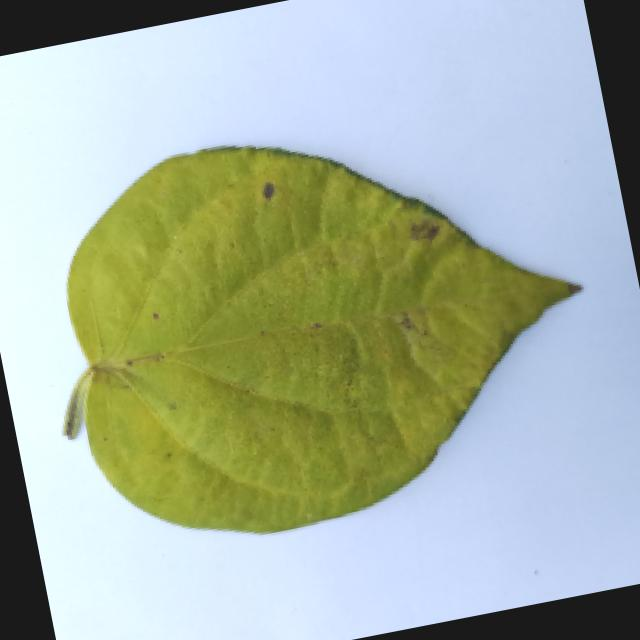slow-decline: (3, 76, 628, 571)
